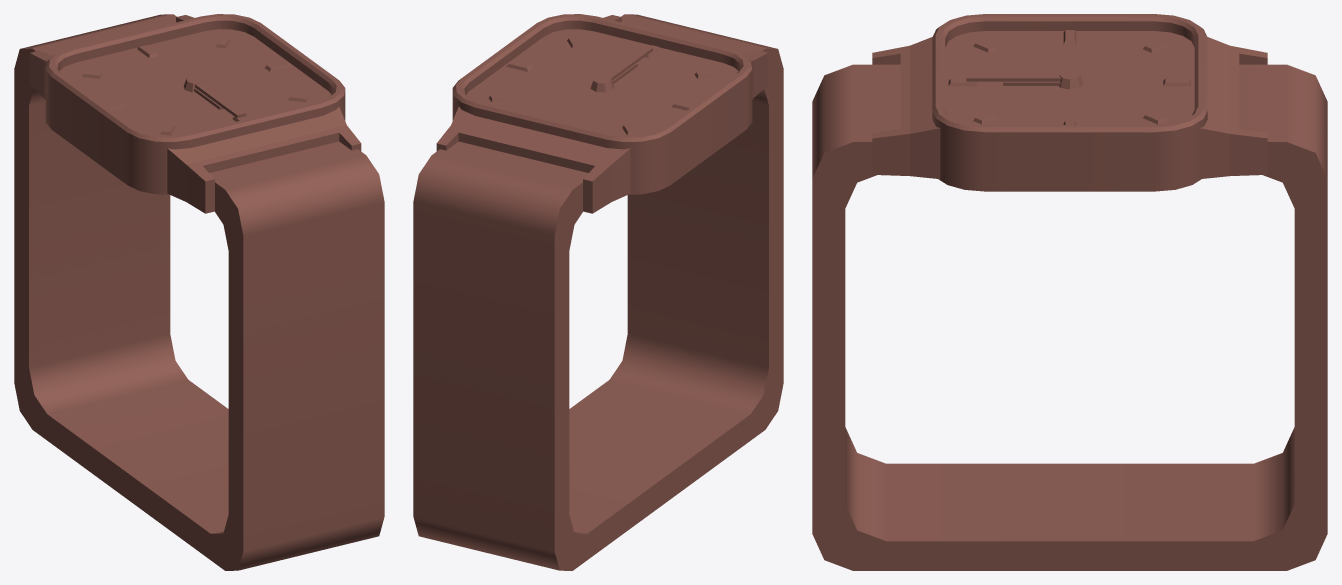
The model's file is Wrist_WatchAnalogue.fbx.
3 renders of one model, left to right at view 1: azimuth 30°, elevation 25°; view 2: azimuth 150°, elevation 25°; view 3: azimuth 270°, elevation 25°, orthographic. The views are drawn at different scales.
Parts seen in each view (by area): view 1: Watch_Main, Watch_MinuteHand; view 2: Watch_Main, Watch_MinuteHand; view 3: Watch_Main, Watch_MinuteHand.
Boxes of the visible parts, x1,y1,x2,y2 form: Watch_Main: [14, 14, 384, 570]; Watch_MinuteHand: [195, 82, 246, 118]; Watch_Main: [413, 14, 783, 570]; Watch_MinuteHand: [603, 45, 652, 80]; Watch_Main: [812, 14, 1327, 570]; Watch_MinuteHand: [966, 73, 1061, 81].
Size of the model in its own units: 0.4188 by 0.7701 by 0.7828.
